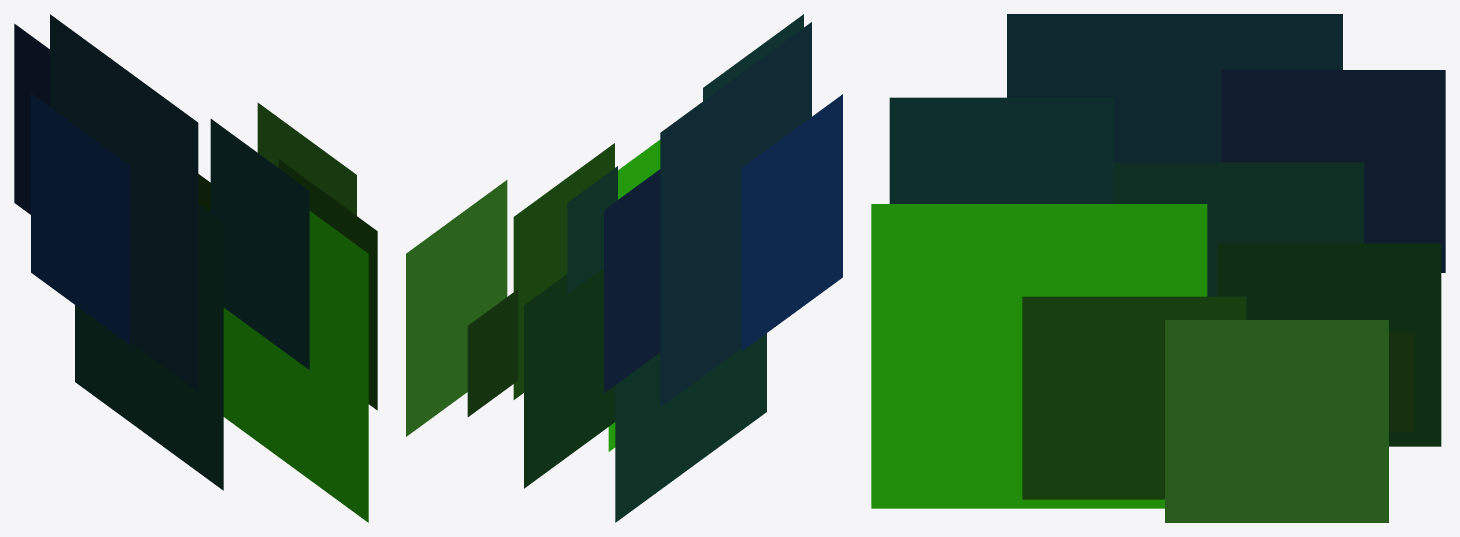
File: planes.fbx
The picture shows the model from 3 angles, left to right: view 1: azimuth 30°, elevation 25°; view 2: azimuth 150°, elevation 25°; view 3: azimuth 270°, elevation 25°; orthographic projection. The views are drawn at different scales.
Visible parts, largest first — view 1: pPlane12; view 2: pPlane12; view 3: pPlane12.
Boxes of the visible parts, x1,y1,x2,y2 form: pPlane12: (14, 14, 377, 522); pPlane12: (406, 14, 842, 522); pPlane12: (871, 14, 1445, 522).
Bounding box in the file's own units: 1.62 × 2.14 × 2.56.
